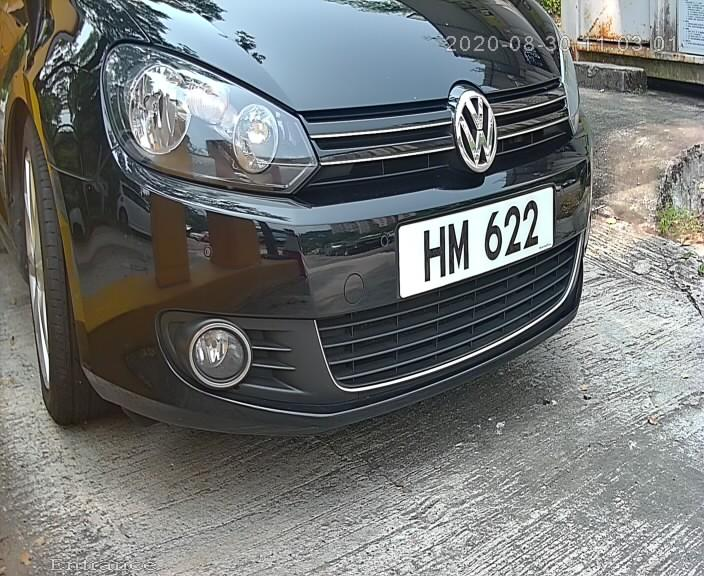License Plate: (390, 183, 557, 299)
